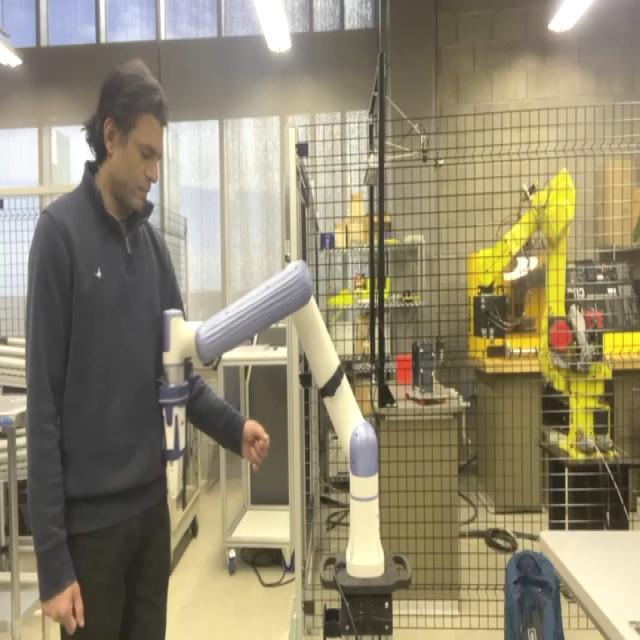robot: (159, 256, 413, 636)
